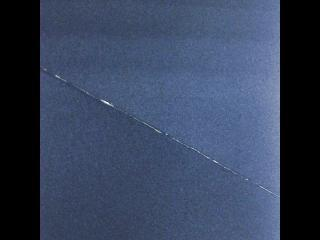crack: (39, 66, 280, 196)
